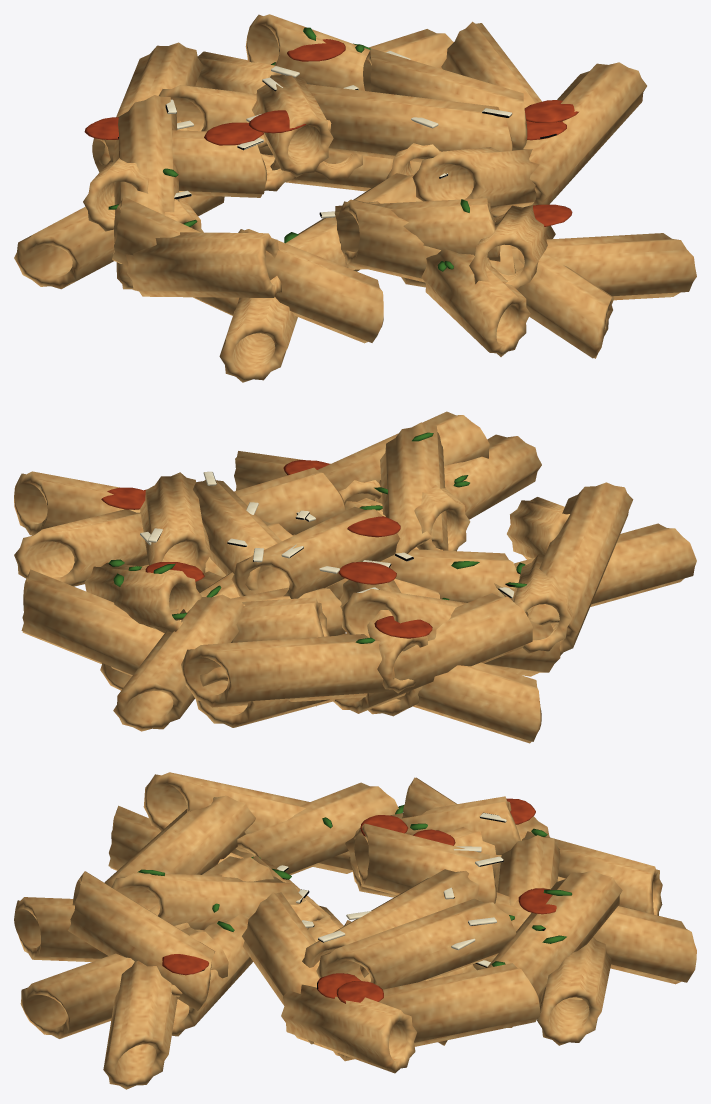
File: pasta.glb
The picture shows the model from 3 angles, top to bottom: view 1: azimuth 30°, elevation 25°; view 2: azimuth 150°, elevation 25°; view 3: azimuth 270°, elevation 25°; orthographic projection. The views are drawn at different scales.
Parts seen in each view (by area): view 1: pasta; view 2: pasta; view 3: pasta.
Part boxes in pixels (bbox=[...]): pasta: bbox=[14, 14, 696, 382]; pasta: bbox=[14, 411, 696, 743]; pasta: bbox=[14, 772, 696, 1089].
Size of the model in its own units: 0.0685 by 0.0172 by 0.0717.
1 material, 1 textured.
